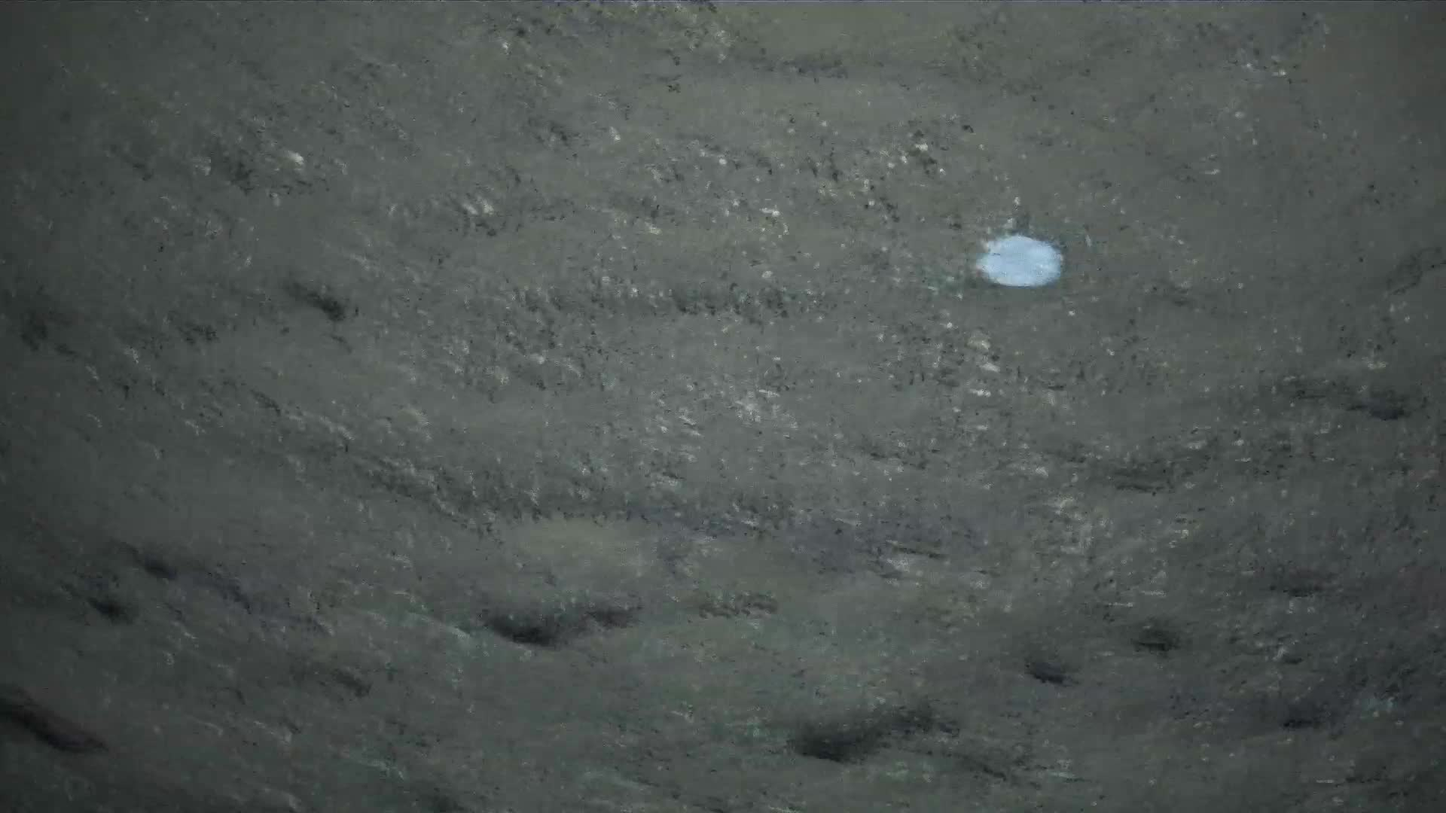Target: (974, 226, 1068, 294)
